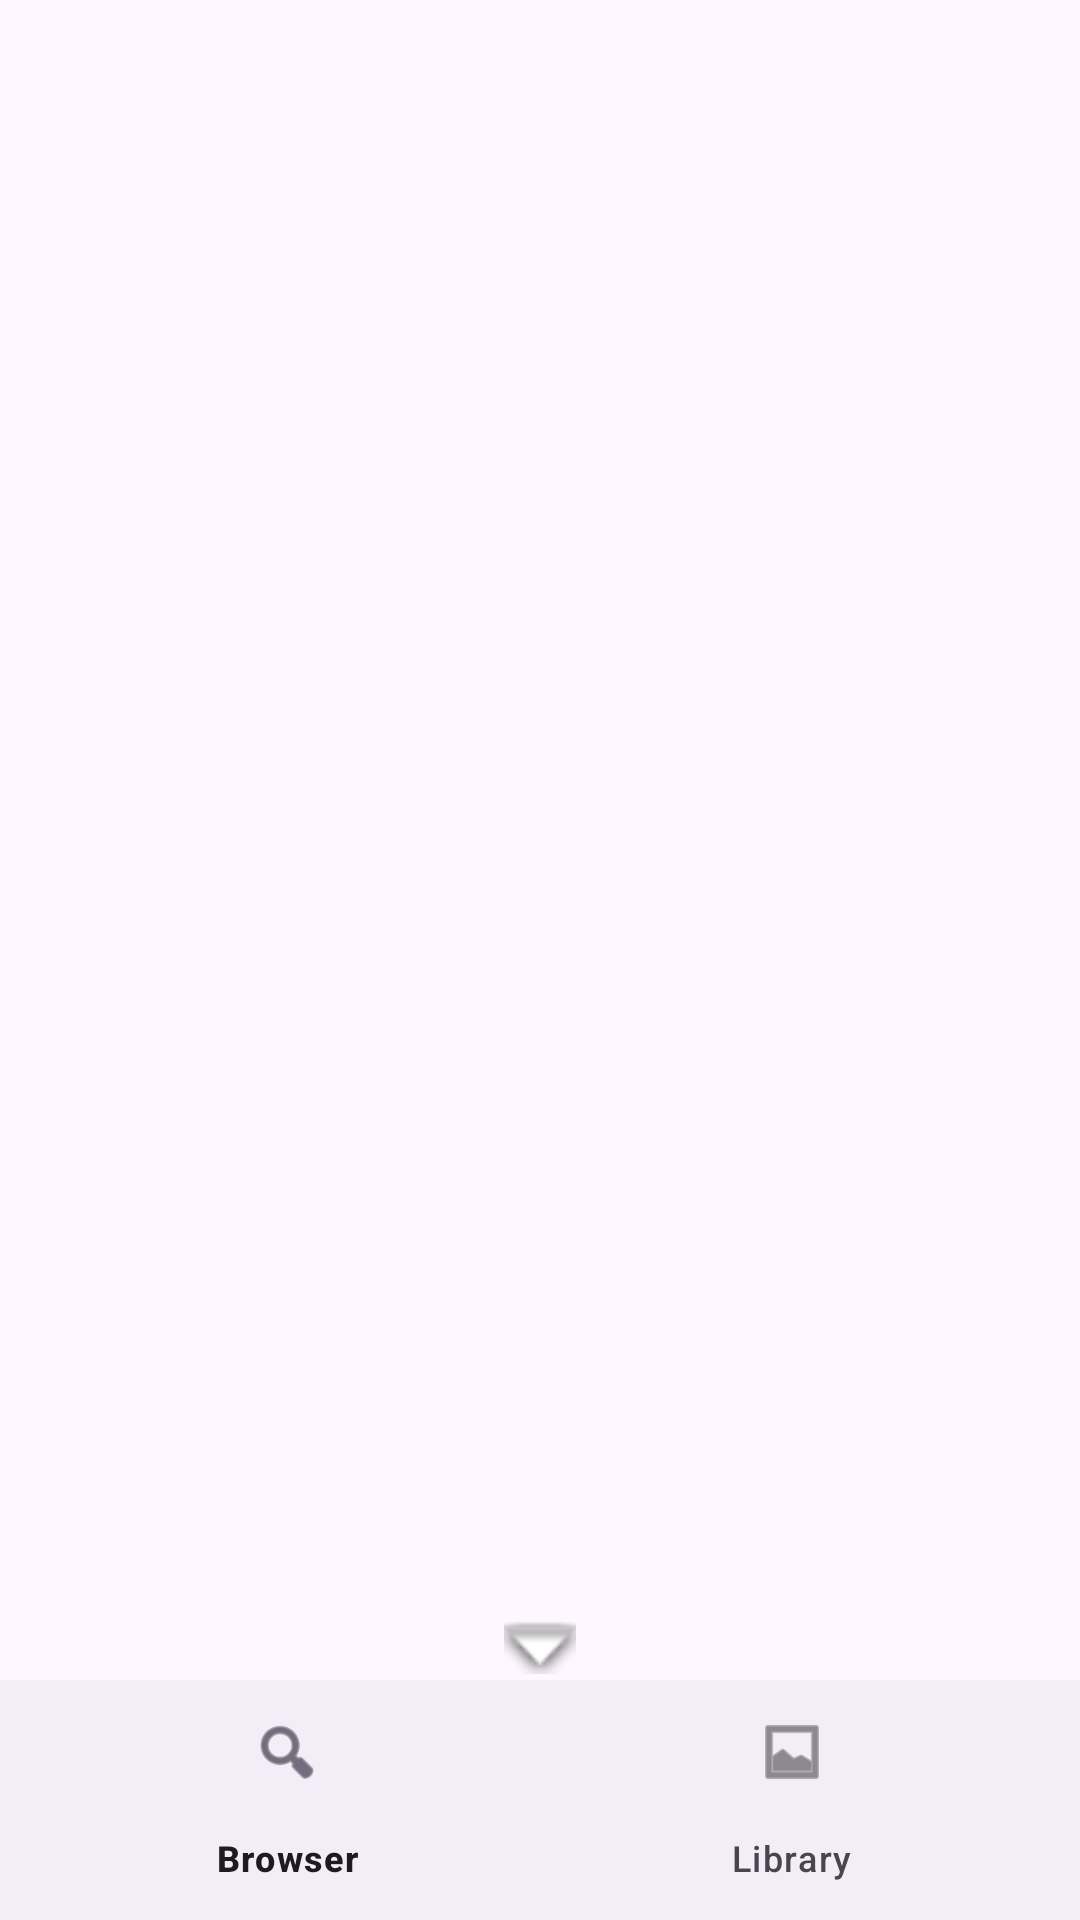

Where to tap for icons on this 1080×1920 app screen, as point (x, y):
Collapse footer: point (540, 1647)
